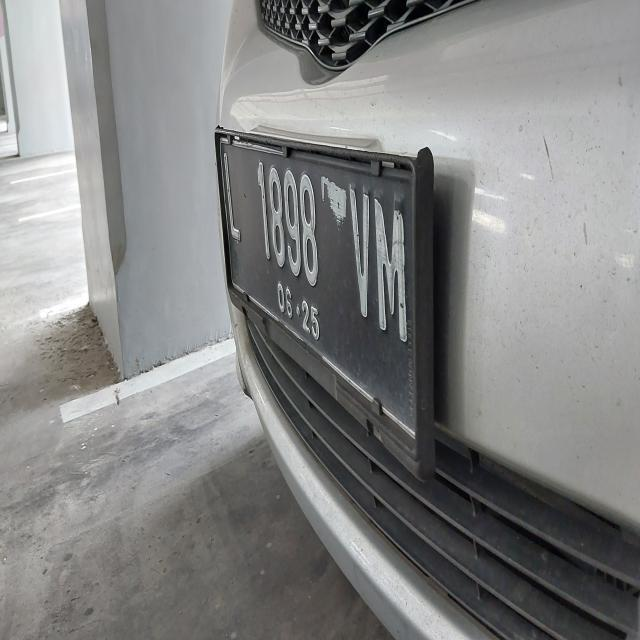1: (252, 146, 276, 273)
8: (300, 134, 322, 298), (266, 140, 290, 276)
9: (285, 140, 305, 288)
L: (208, 130, 248, 252)
M: (372, 170, 413, 364)
V: (342, 167, 374, 338)
